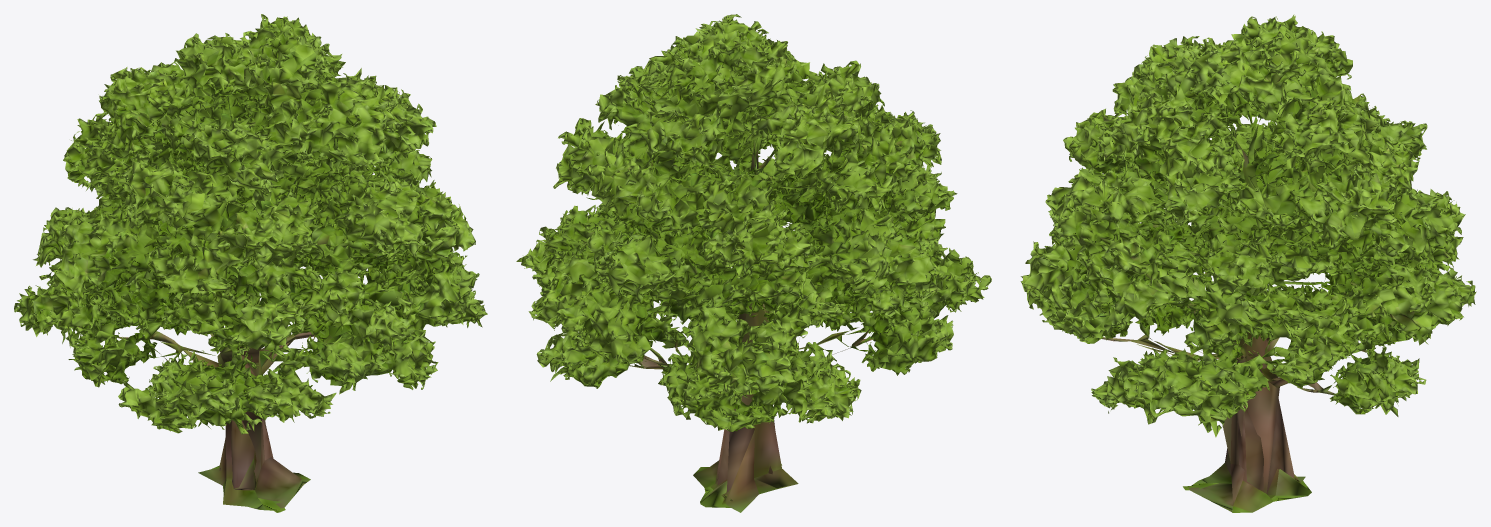
File: Verdant_Oak_optimized.glb
3 renders of one model, left to right at view 1: azimuth 30°, elevation 25°; view 2: azimuth 150°, elevation 25°; view 3: azimuth 270°, elevation 25°, orthographic.
Size of the model in its own units: 1.74 by 1.89 by 1.7.
Materials: 1 (1 with a texture image).
